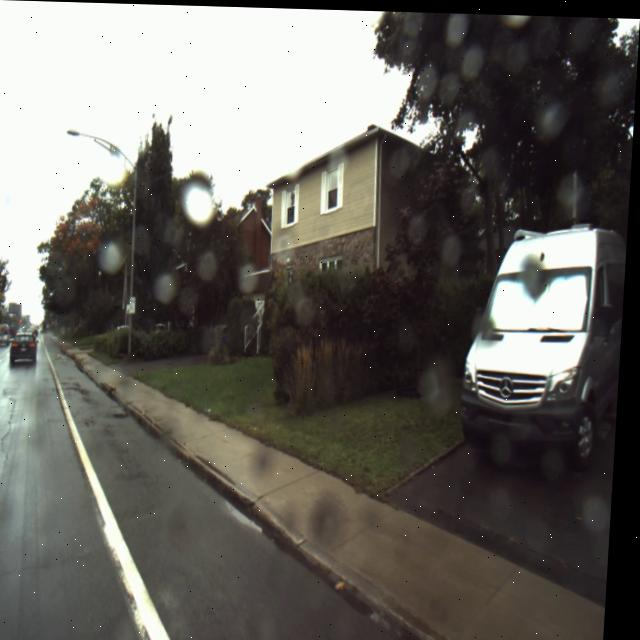car: (13, 333, 43, 367), (0, 324, 14, 346)
